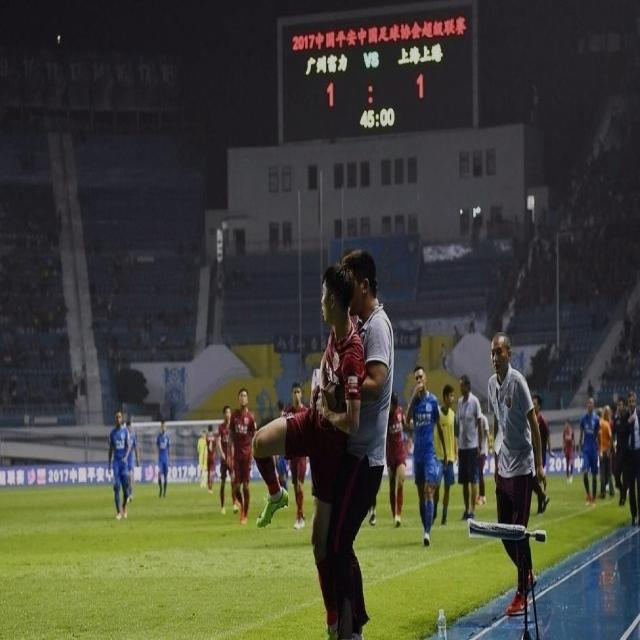fight: (248, 250, 399, 639)
non-fight: (484, 328, 544, 626), (404, 362, 450, 546), (454, 372, 486, 522), (224, 386, 257, 522), (106, 408, 134, 519), (616, 397, 639, 528)
